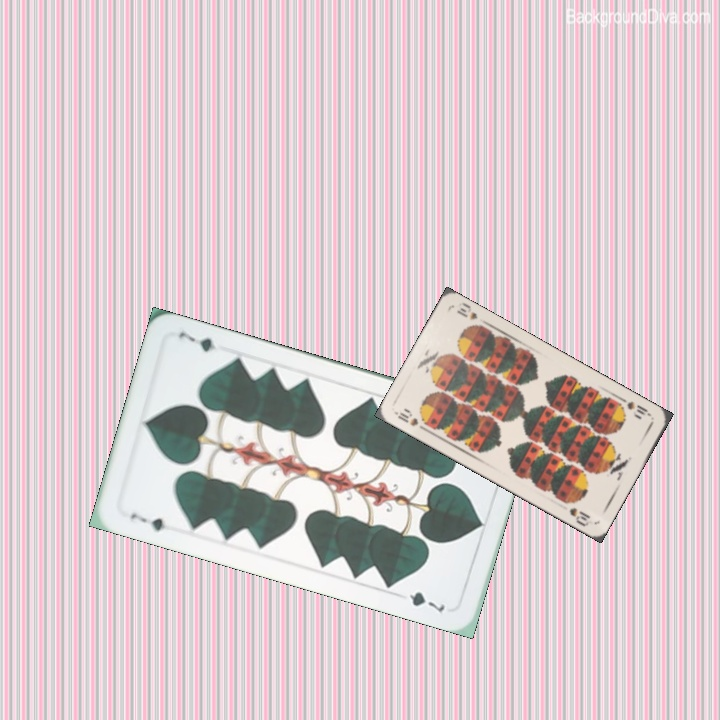G7: (126, 509, 175, 534)
S10: (392, 405, 430, 434), (623, 397, 654, 419)
